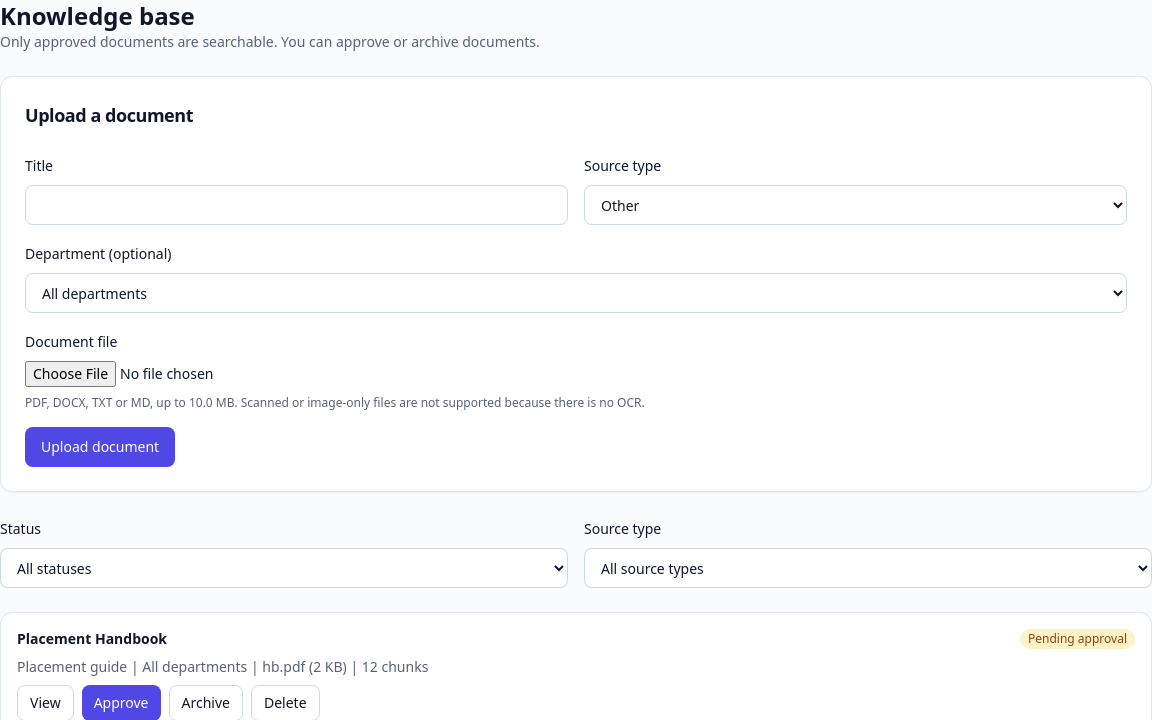
Test case: KnowledgeAdminPage › approves after in-page confirmation
Expected: the text "Placement Handbook" is shown, [17,629,167,649]
What coordinates should you click on to do the following:
click the button with aria-label "Approve Placement Handbook"
I would click on:
 (121, 703)
Its box is [82,685,160,719].
(page scrolled)
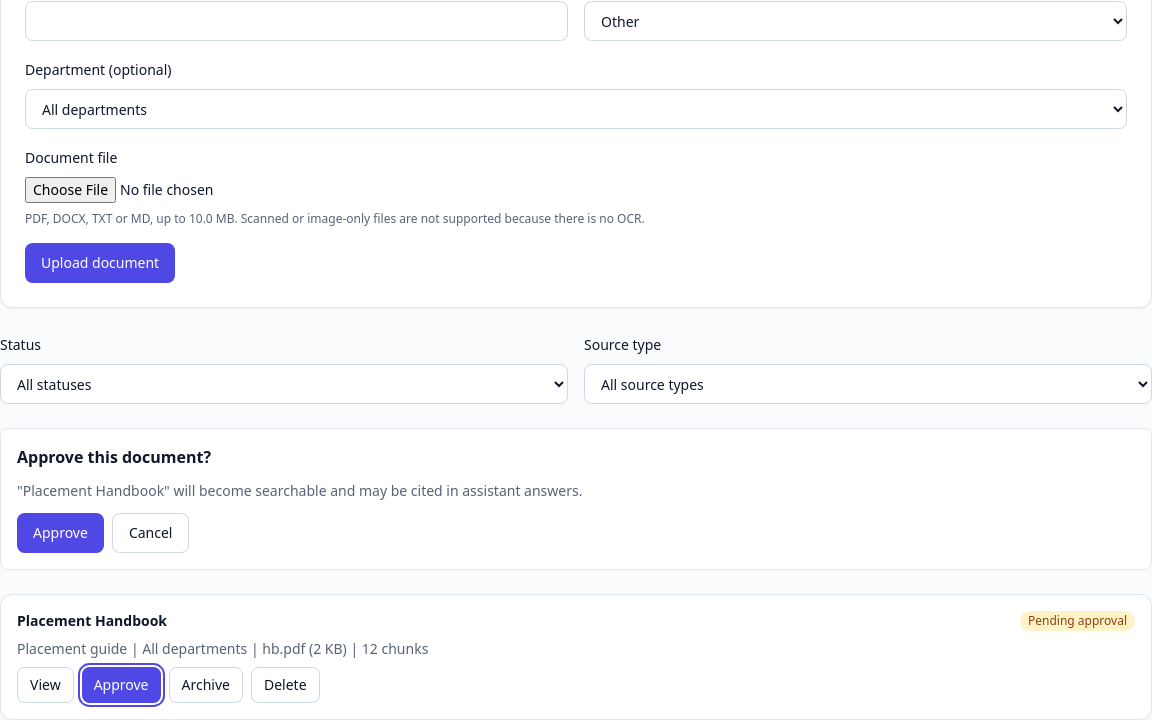
What coordinates should you click on to do the following:
click the button "Approve" below "Approve this document?"
I would click on:
 (60, 533)
Its box is [17,513,104,553].
(page scrolled)
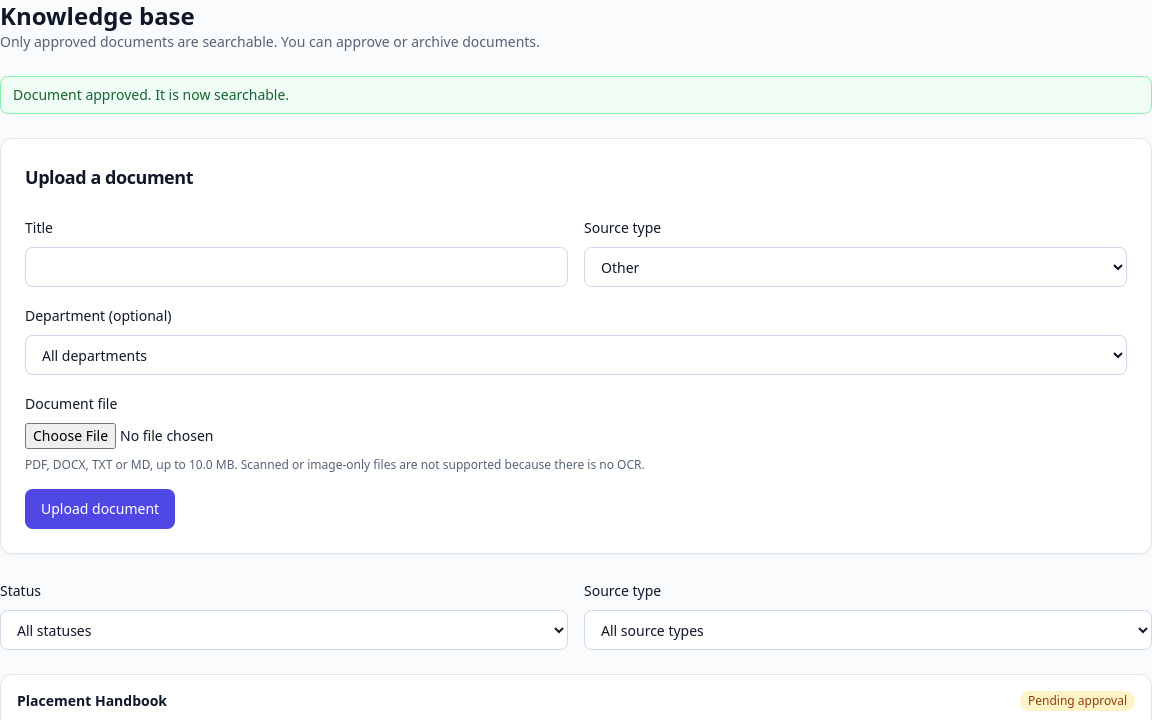
Now the text "Document approved. It is now searchable." is shown, box [0,76,1151,114]
